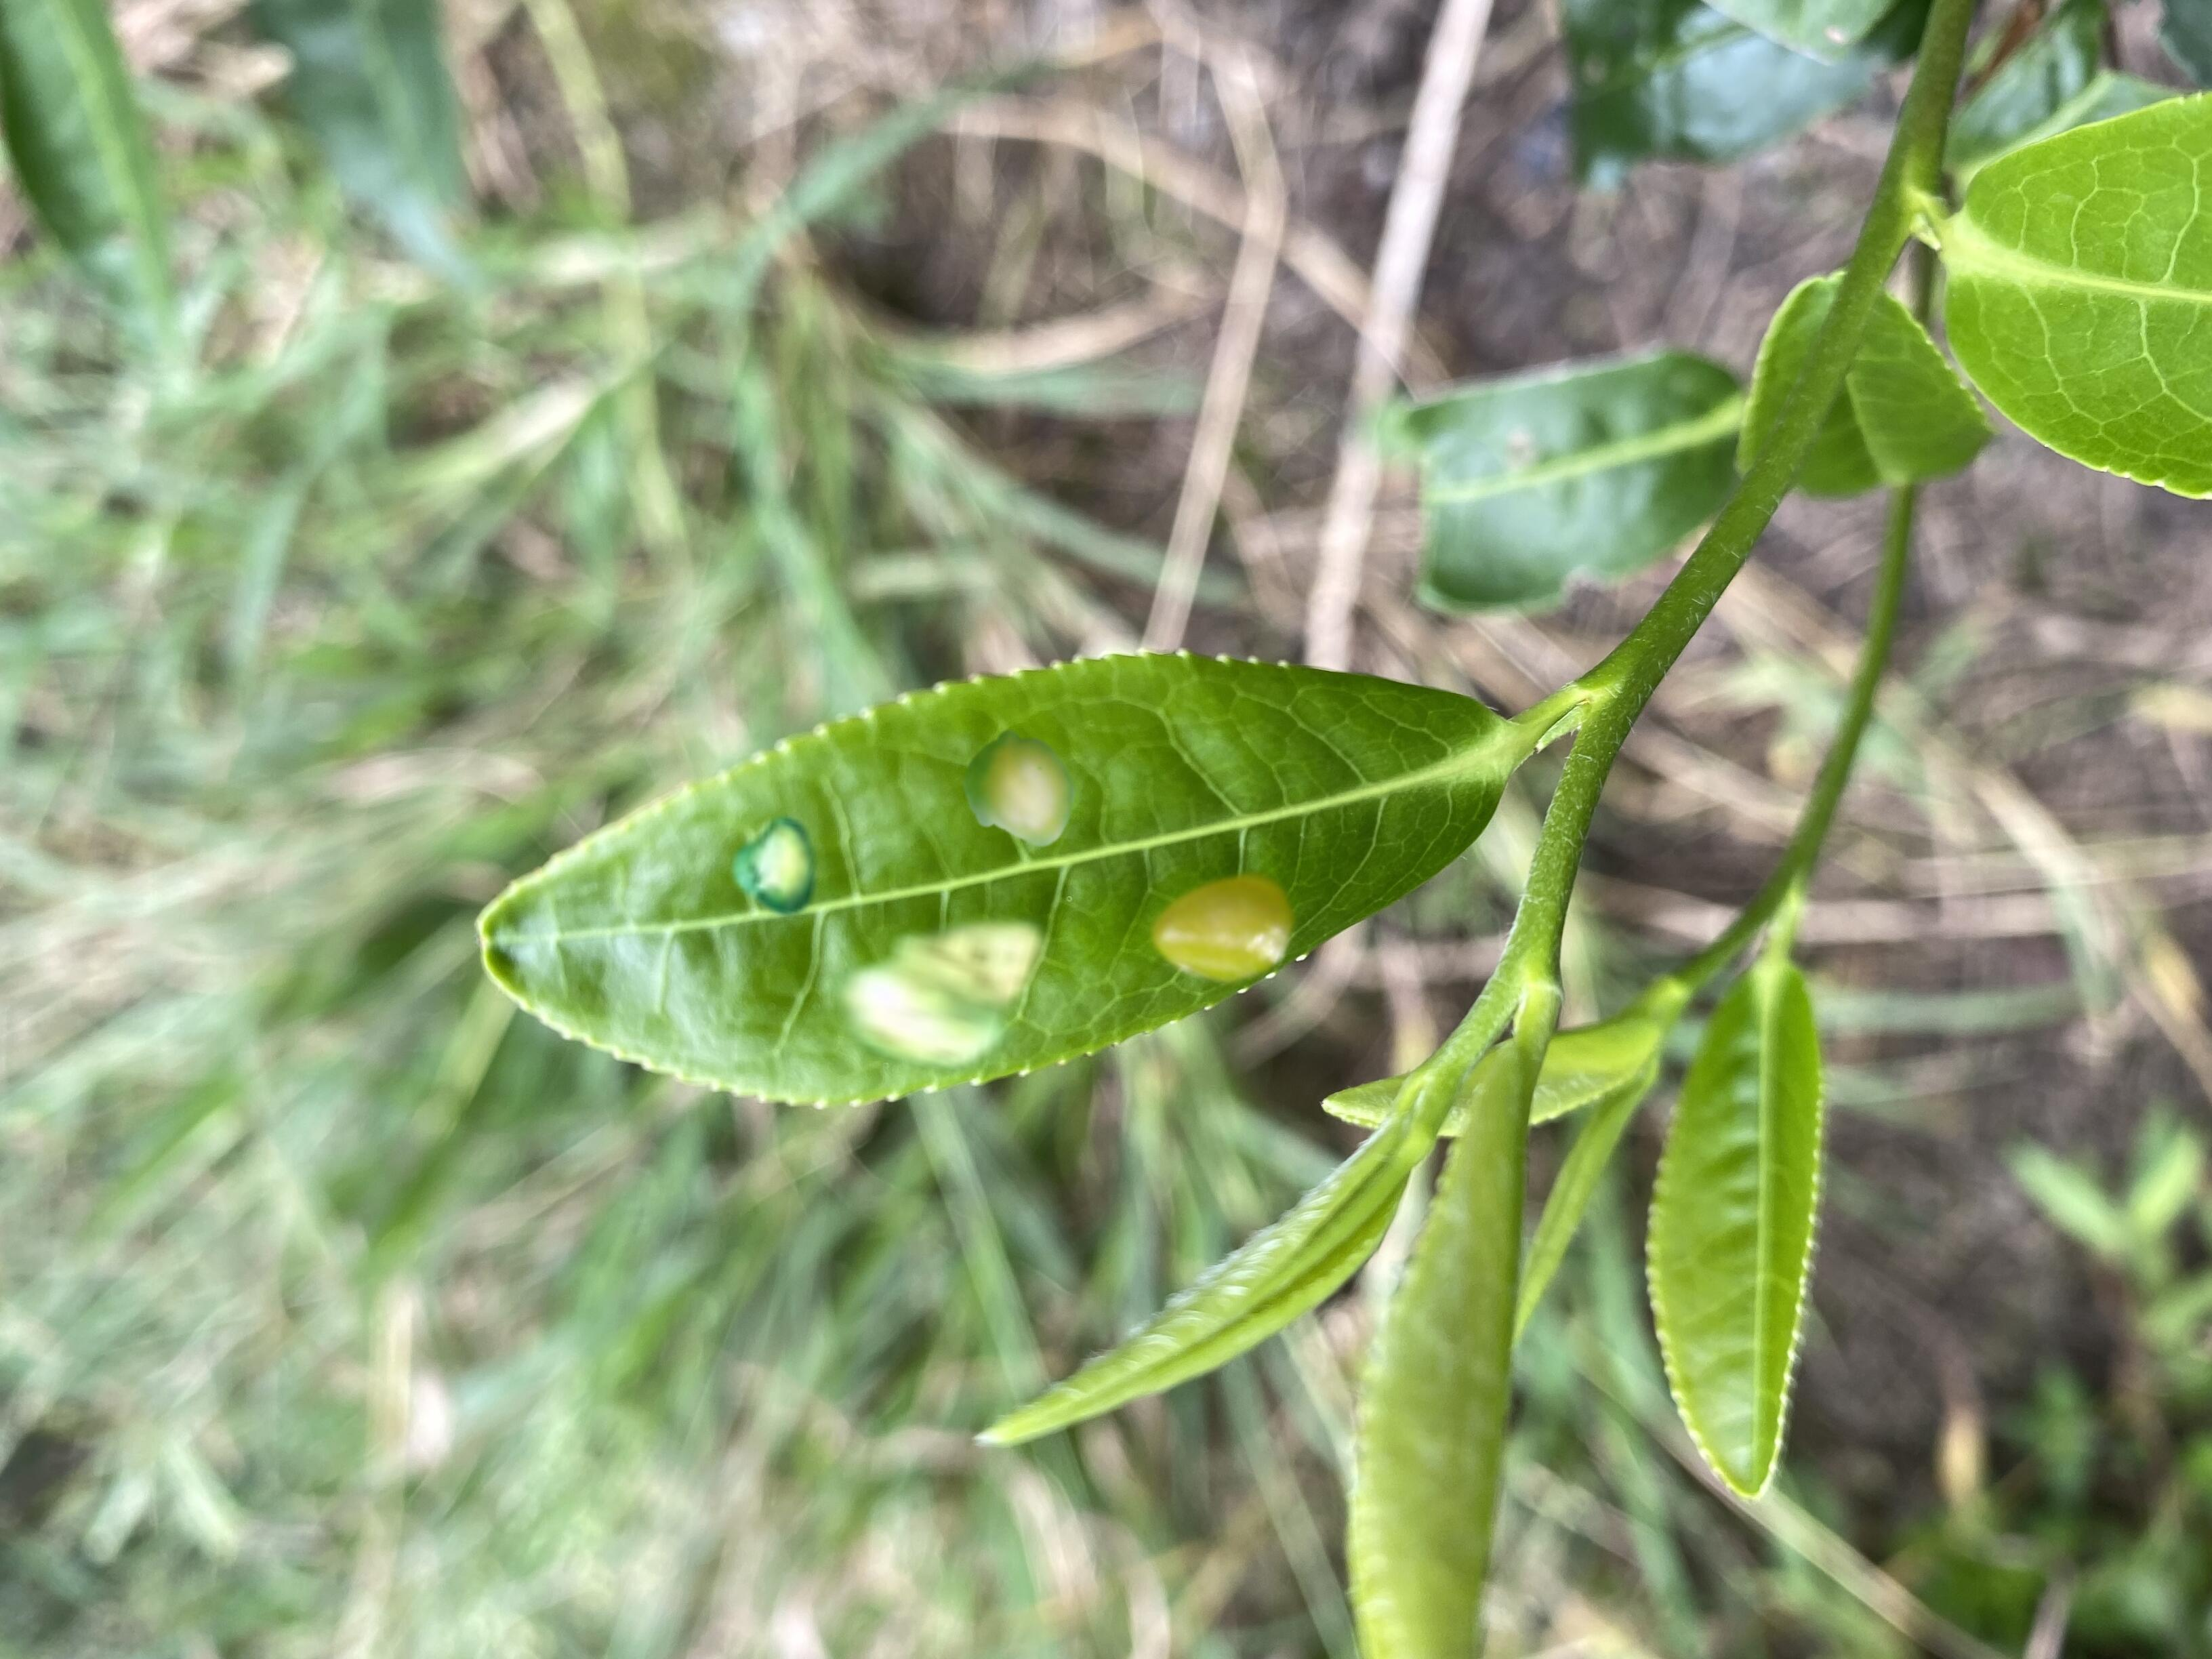chabing_high: (474, 648, 1512, 1110)
healthy: (1646, 955, 1824, 1495)
